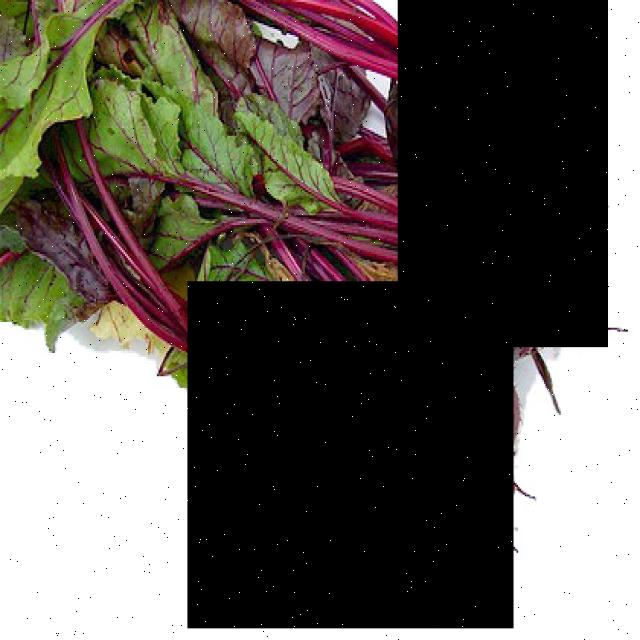Beetroot: (188, 282, 513, 630), (398, 0, 608, 347)
